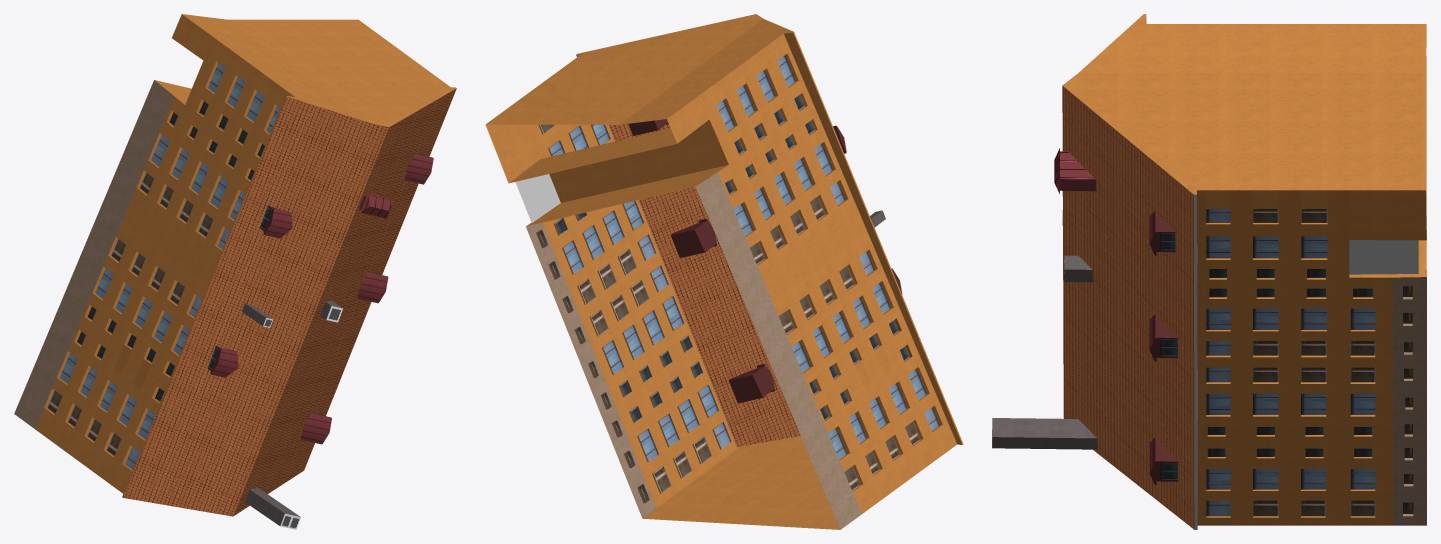
Rendered from Vene_11.obj.
3 renders of one model, left to right at view 1: azimuth 30°, elevation 25°; view 2: azimuth 150°, elevation 25°; view 3: azimuth 270°, elevation 25°, orthographic. The views are drawn at different scales.
Parts seen in each view (by area): view 1: Vene_11; view 2: Vene_11; view 3: Vene_11.
Boxes of the visible parts, x1=… form: Vene_11: x1=14, y1=14, x2=456, y2=529; Vene_11: x1=485, y1=14, x2=963, y2=529; Vene_11: x1=992, y1=14, x2=1426, y2=529.
Bounding box in the file's own units: 29.95 × 32.16 × 25.7.
